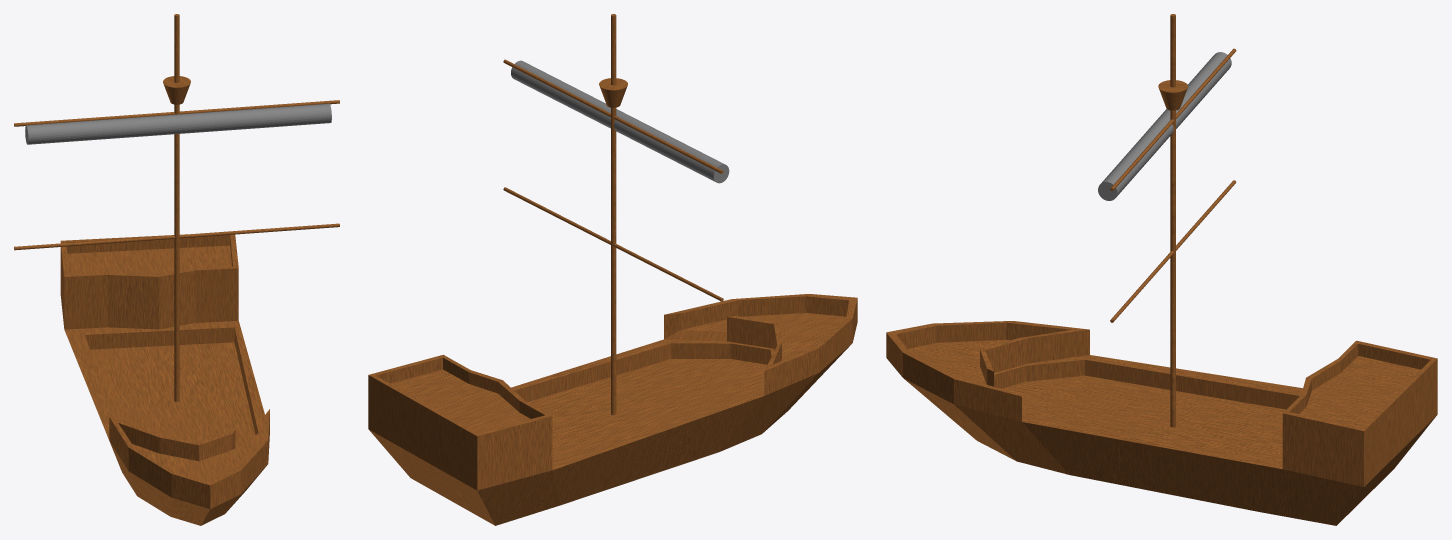
Rendered from BossShip.dae.
The picture shows the model from 3 angles, left to right: view 1: azimuth 30°, elevation 25°; view 2: azimuth 150°, elevation 25°; view 3: azimuth 270°, elevation 25°; orthographic projection. The views are drawn at different scales.
Parts seen in each view (by area): view 1: BossDaveyJonesShip, BossDaveyJonesSail, BossDaveyJonesMast; view 2: BossDaveyJonesShip, BossDaveyJonesMast, BossDaveyJonesSail; view 3: BossDaveyJonesShip, BossDaveyJonesMast, BossDaveyJonesSail.
Boxes of the visible parts, bbox=[...] form: BossDaveyJonesShip: bbox=[60, 234, 269, 525]; BossDaveyJonesSail: bbox=[25, 103, 331, 144]; BossDaveyJonesMast: bbox=[14, 14, 339, 401]; BossDaveyJonesShip: bbox=[368, 294, 857, 525]; BossDaveyJonesMast: bbox=[503, 14, 723, 415]; BossDaveyJonesSail: bbox=[511, 60, 729, 183]; BossDaveyJonesShip: bbox=[886, 321, 1437, 525]; BossDaveyJonesMast: bbox=[1110, 14, 1236, 427]; BossDaveyJonesSail: bbox=[1098, 52, 1231, 200].
Size of what is drawn, in the model's own units: 66.94 by 106 by 95.46.
Materials: 2 (1 with a texture image).
